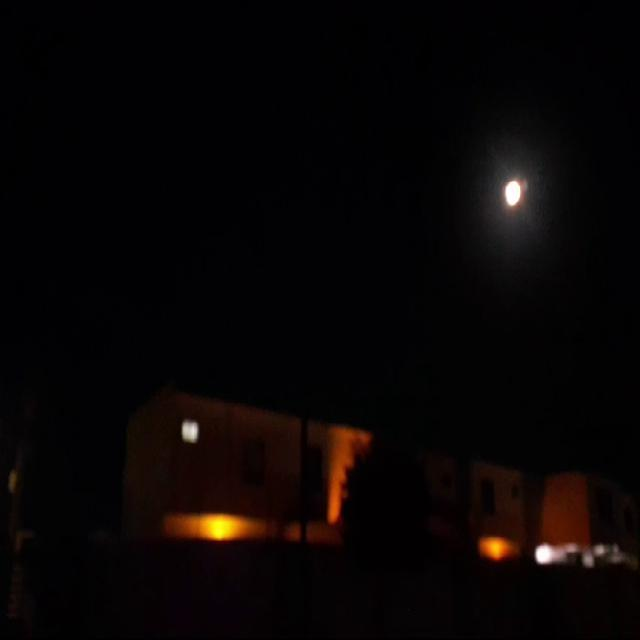moon: (503, 175, 526, 209)
